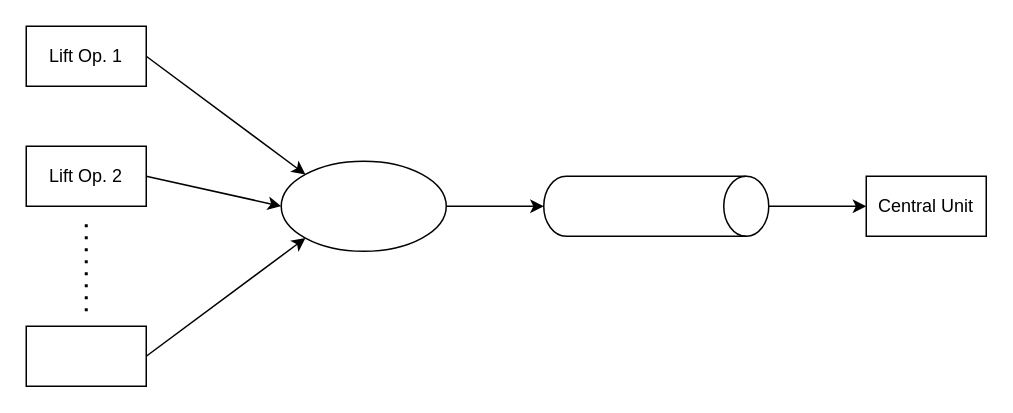
Some shapes in this 1013 by 413 pixel diagram are drawn without their labels. The shapes that lost their labels are listed below. From the top down, each one's centre as x and y in pixels, then its label:
the point at 363,205: Reports exchange
the point at 85,355: Lift Op. n
